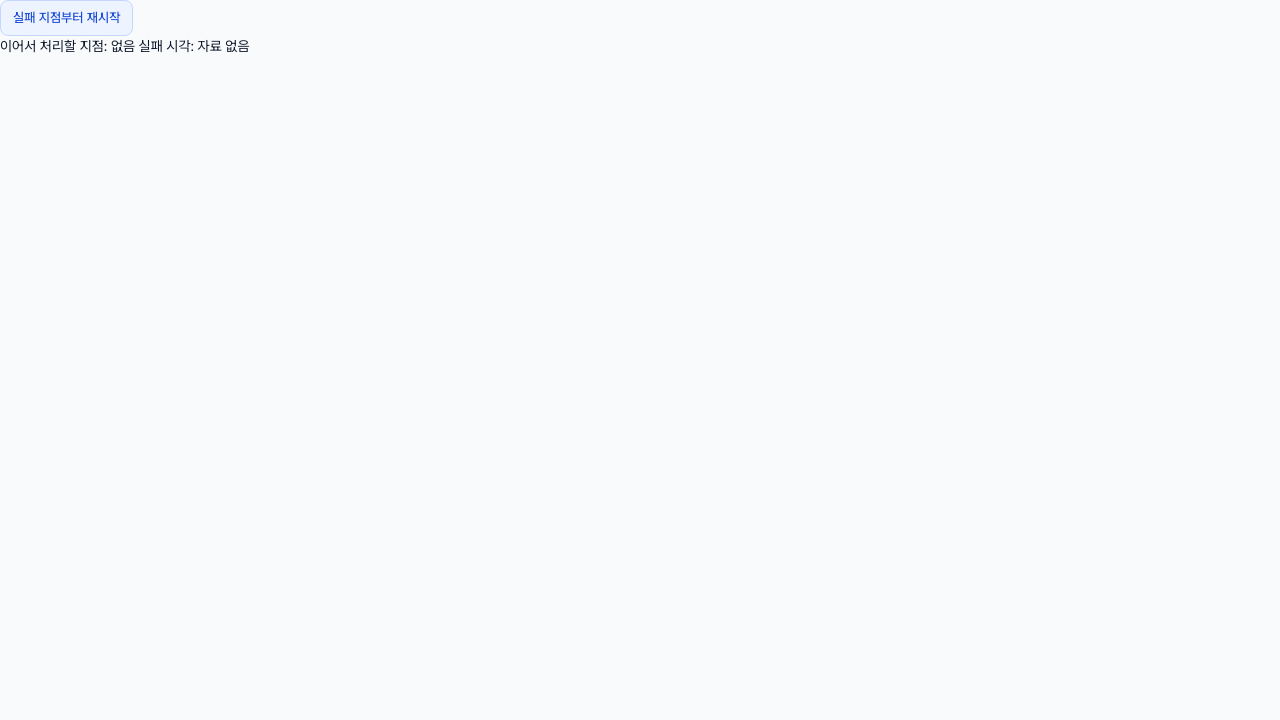
Test case: FGC-FUN-045 preserves the same request after an ambiguous response failure
Later steps or results of the test are not shown.
Click the button "실패 지점부터 재시작" at [67, 18], box [0,0,134,36]
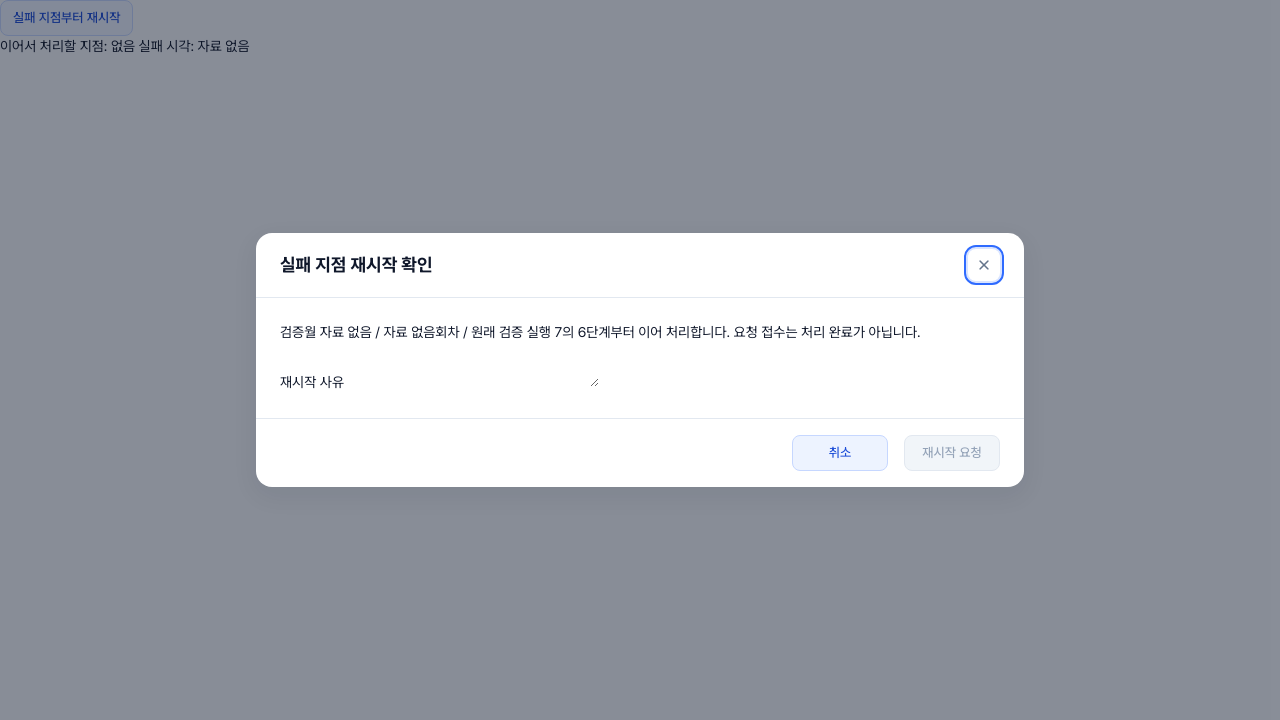
Type "원인 수정" into the text box labelled "재시작 사유" at [472, 366], box [344,344,599,388]
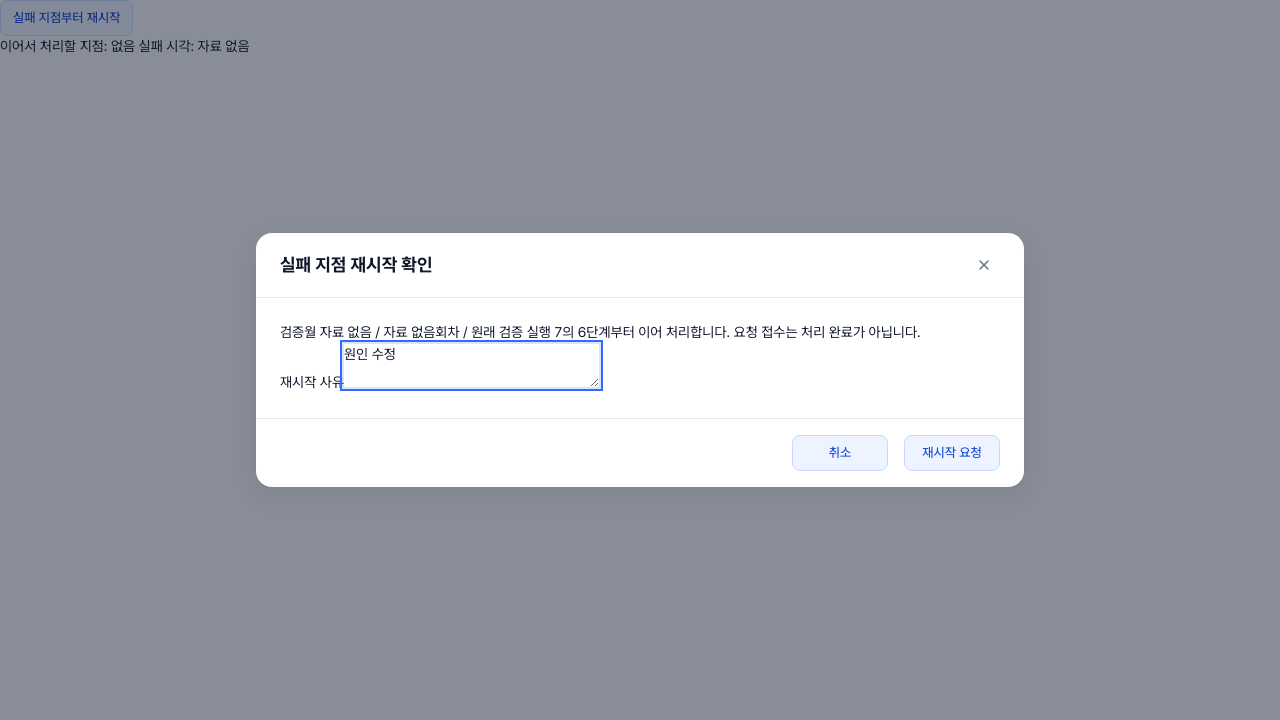
Click the button "재시작 요청" at [952, 454], box [904,436,1000,472]
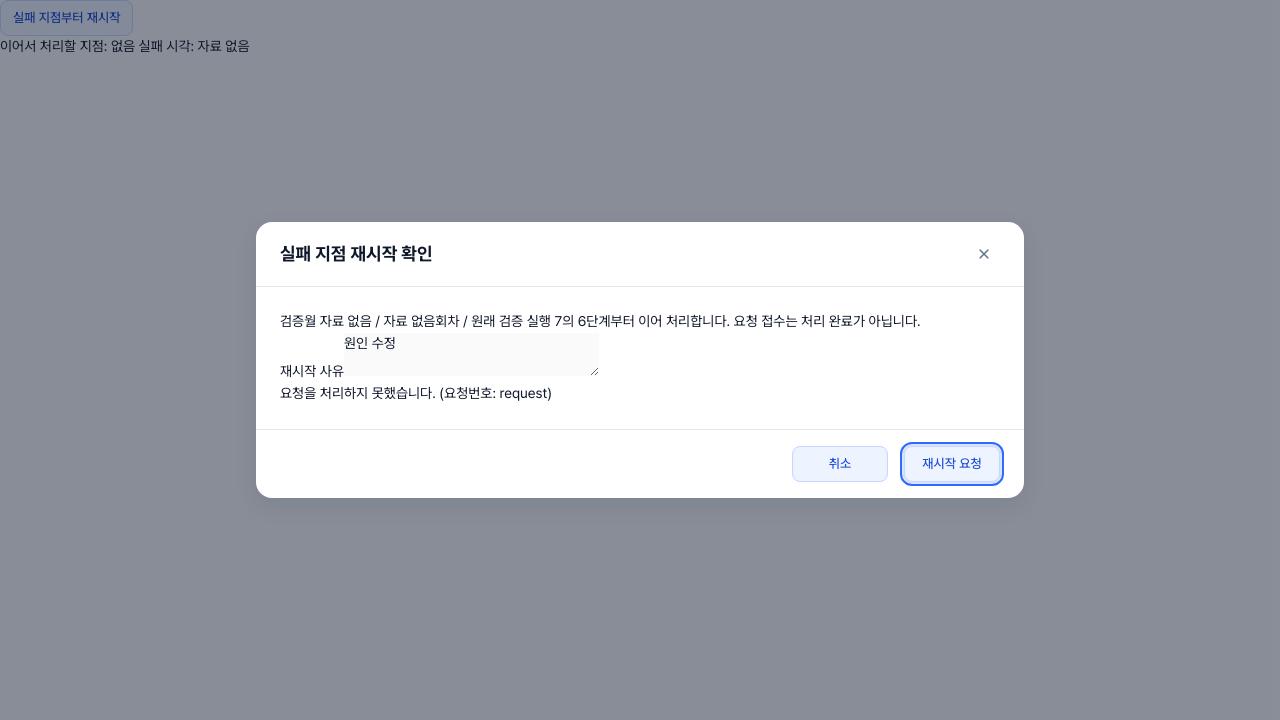
Expected: the message "요청을 처리하지 못했습니다. (요청번호: request)" is shown, [280,386,552,402]
